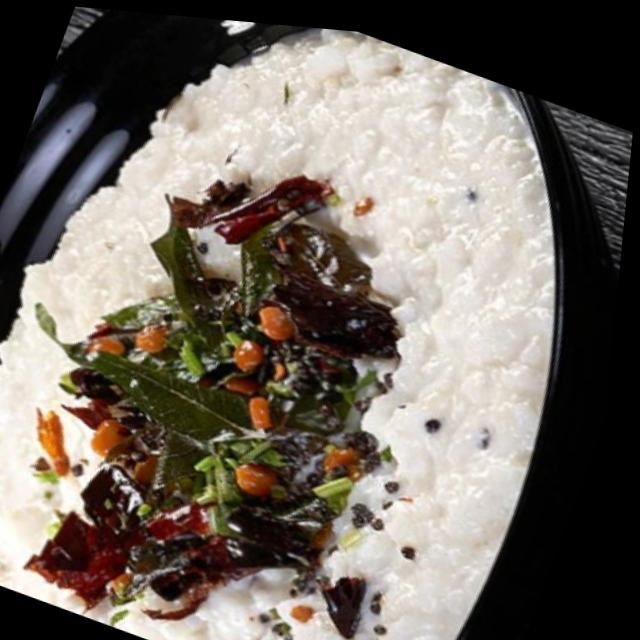CURD RICE: (0, 27, 555, 640)
